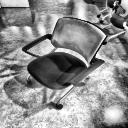chair_success: (18, 15, 110, 111)
